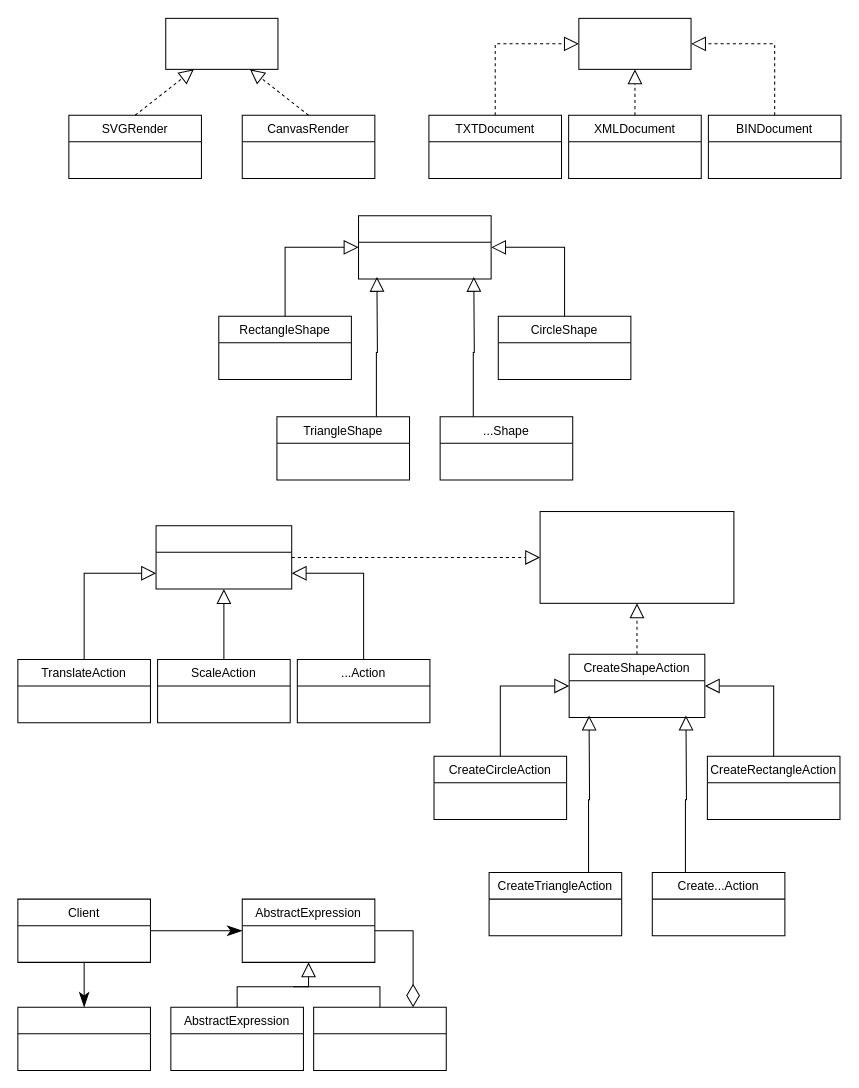
The diagram is 859 pixels wide and 1088 high, and some of its shapes have lost their labels. Here are the shapes that lost their labels. From the top down, the centre of each, then its label:
At (221,43): "«interface» Render".
At (634,43): "«interface» SDDocument".
At (424,247): "Shape".
At (223,557): "TransformationAction".
At (636,557): "<<Interface>> Action + do(): T + undo(): void".
At (83,1038): "Context".
At (379,1038): "ComplexExpression".
